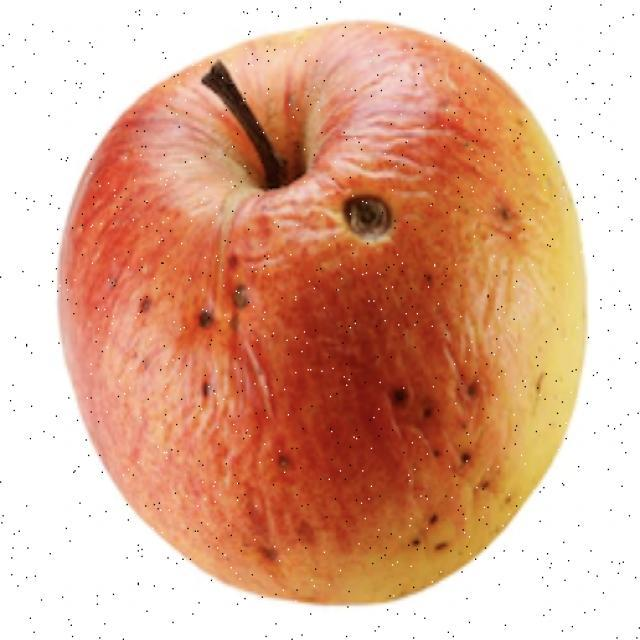Rotten: (63, 38, 595, 600)
